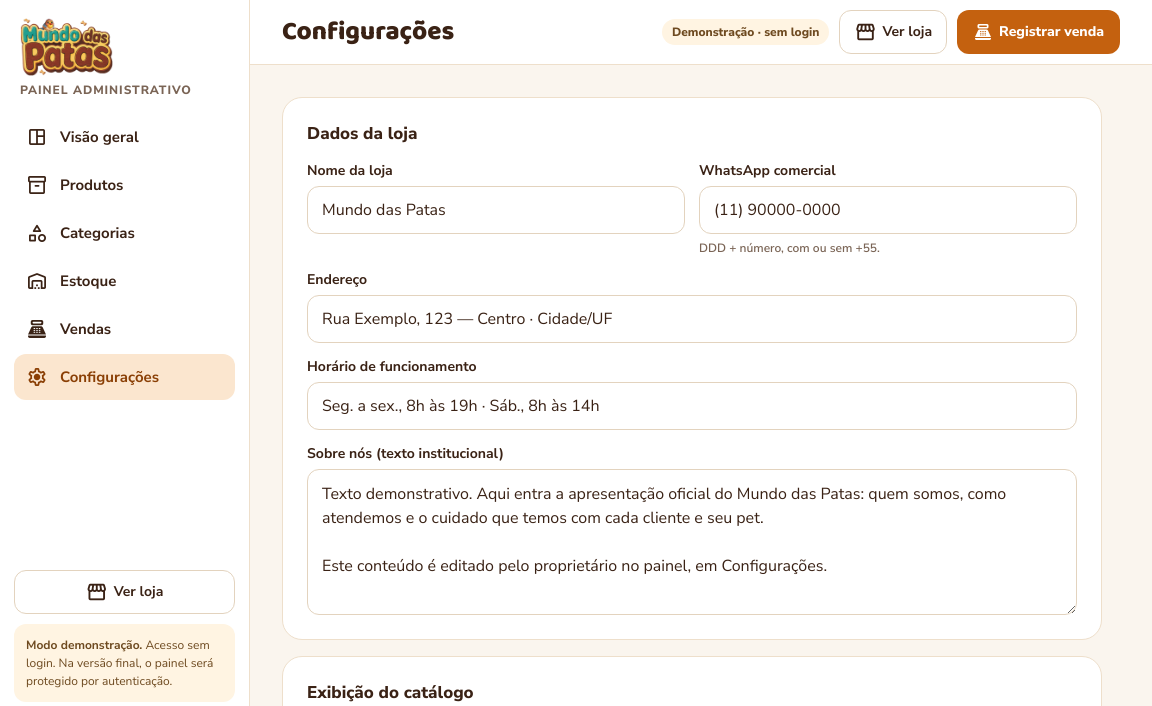
Scenario: painel administrativo › configurações: WhatsApp inválido é rejeitado; restaurar demonstração
The image size is (1152, 706).
Replace the text in the 2nd field named "WhatsApp comercial" with "123" at (888, 210), box 699,186 -> 1077,234
(page scrolled)
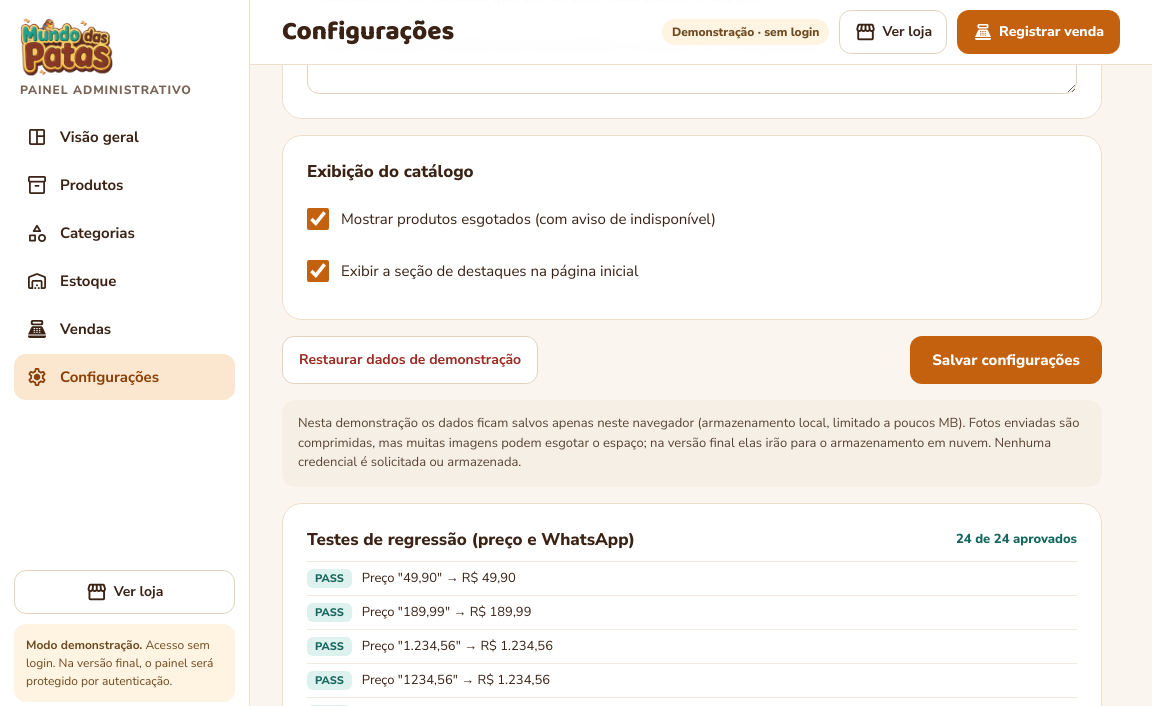
Click the button "Salvar configurações" at (1006, 360), box 910,336 -> 1102,384
(page scrolled)
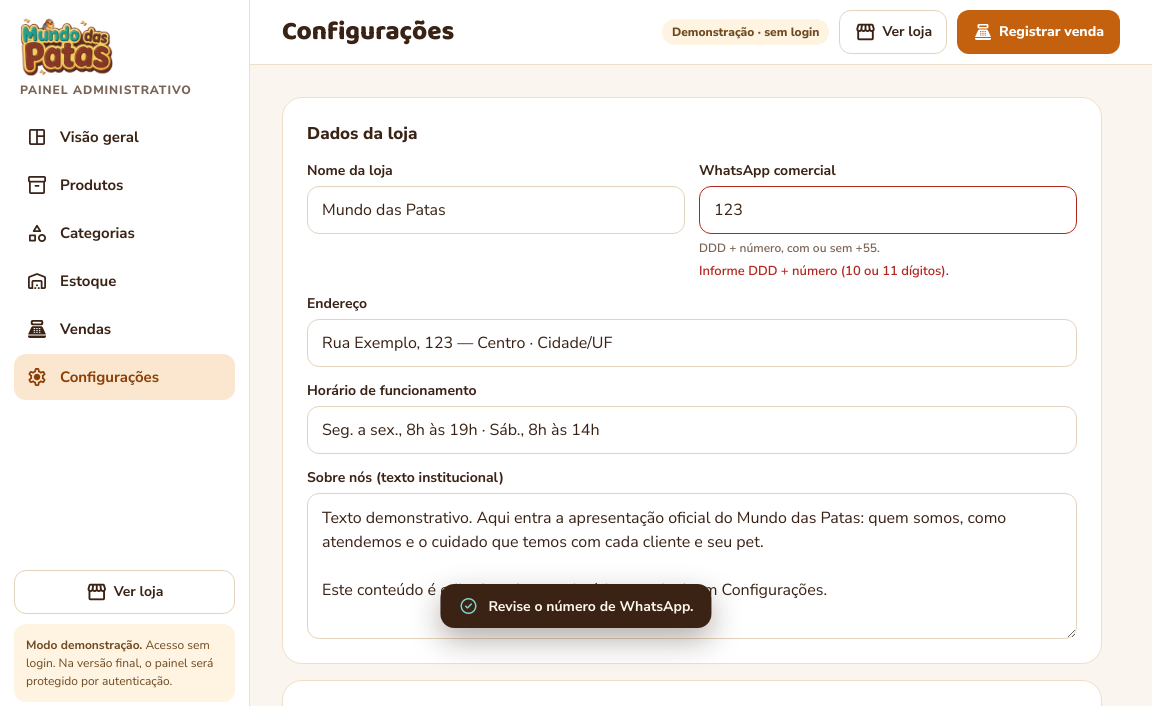
Check: the text "Informe DDD + número (10 ou 11 dígitos)." is shown, box 699,262 -> 949,280
Replace the text in the 2nd field named "WhatsApp comercial" with "+55 (21) 98888-7777" at (888, 210), box 699,186 -> 1077,234
(page scrolled)
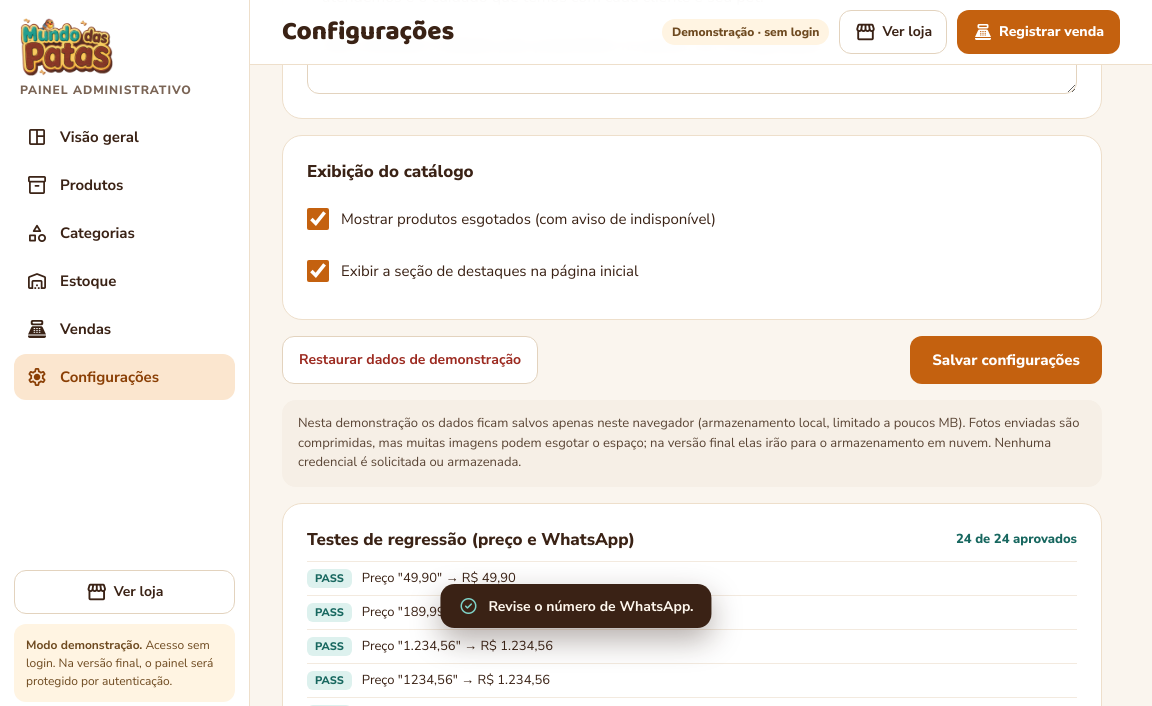
Click the button "Salvar configurações" at (1006, 360), box 910,336 -> 1102,384
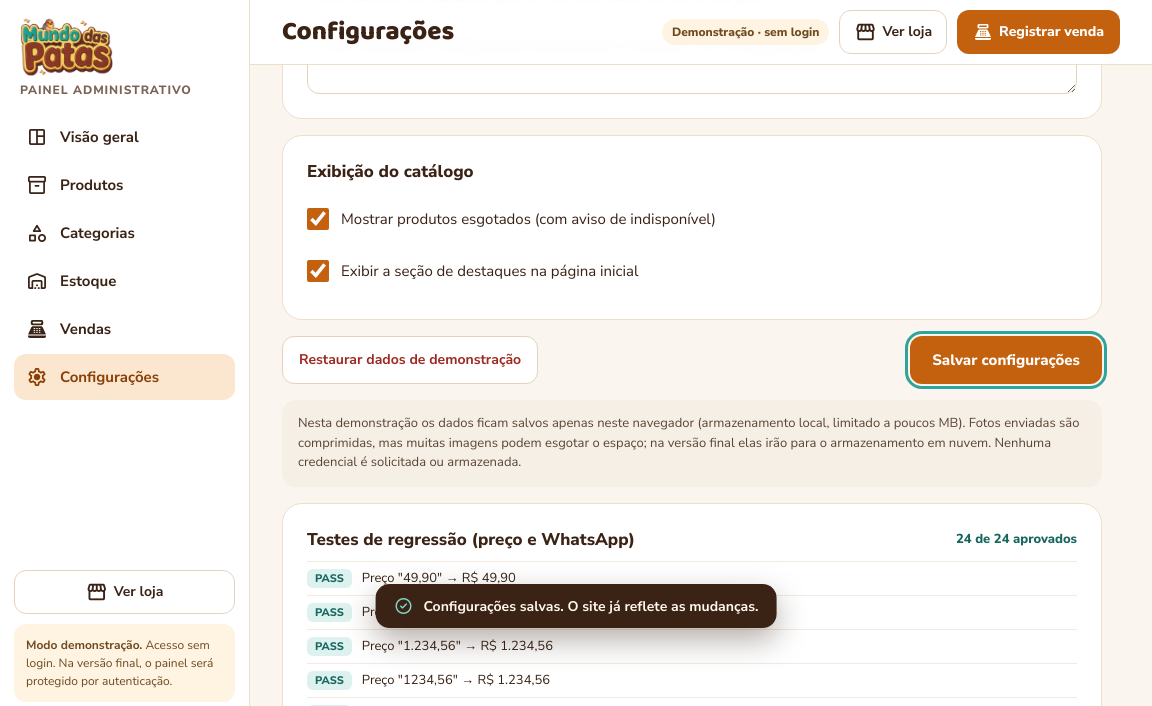
Check: the text "24 de 24 aprovados" is shown, box 956,530 -> 1077,548
Click the button "Restaurar dados de demonstração" at (410, 360), box 282,336 -> 538,384
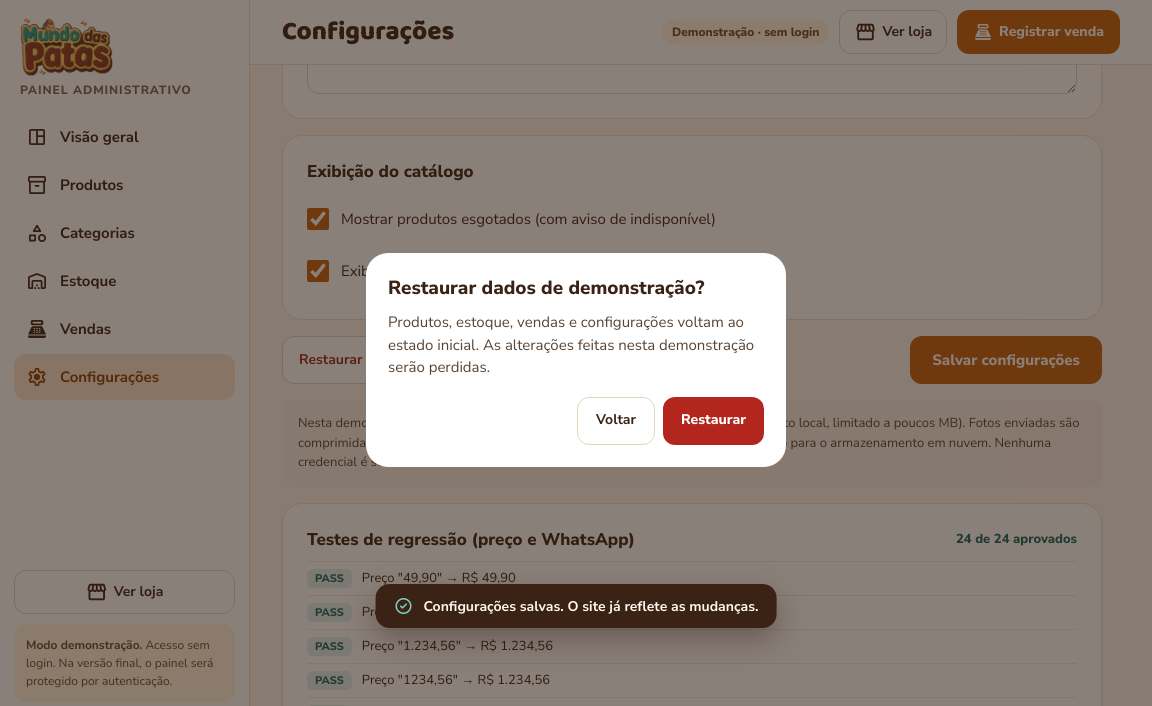
Click the button "Restaurar" at (714, 421), box 663,397 -> 764,445
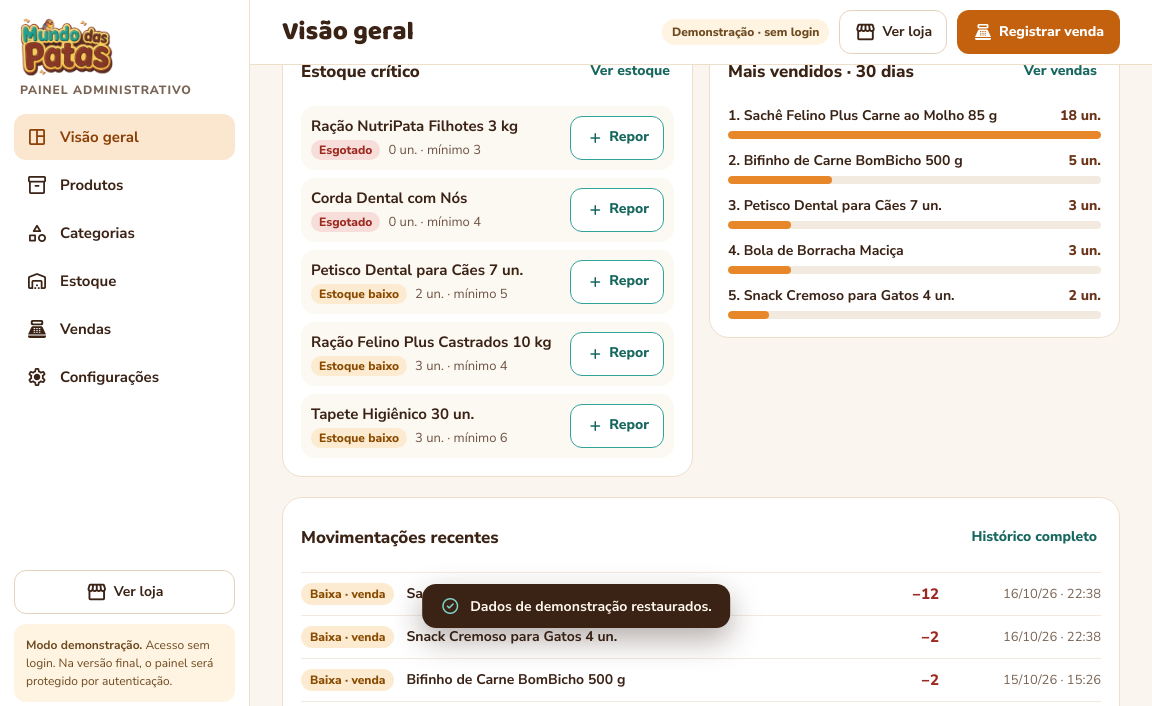
Check: the heading "Visão geral" is shown, box 282,11 -> 414,53
